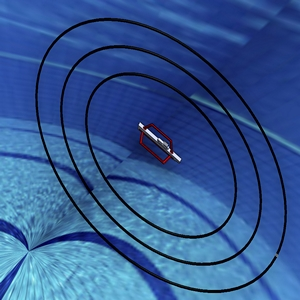circle: (24, 8, 293, 297)
submarine: (125, 110, 186, 175)
